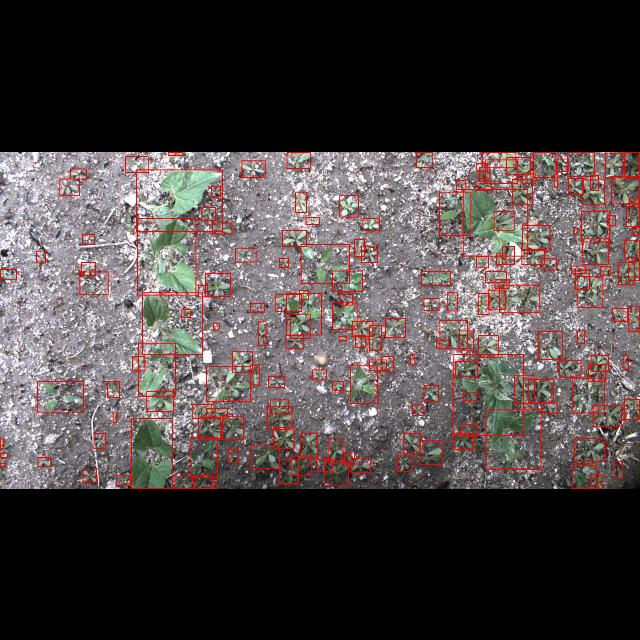crop: (452, 354, 524, 436), (136, 169, 222, 231), (462, 188, 528, 256), (138, 218, 196, 294), (143, 292, 203, 354), (486, 409, 540, 469), (132, 418, 172, 488), (138, 342, 176, 396), (482, 152, 516, 166)
weed: (301, 243, 349, 283), (286, 293, 322, 335), (207, 366, 251, 400), (37, 381, 83, 411), (440, 191, 470, 235), (499, 284, 539, 312), (572, 378, 604, 412), (350, 365, 378, 403), (191, 437, 217, 477), (581, 210, 609, 242), (484, 159, 518, 183), (440, 320, 468, 348), (611, 175, 639, 202), (332, 302, 358, 330), (522, 224, 550, 250), (575, 438, 605, 462), (578, 276, 602, 306), (582, 238, 608, 264), (251, 445, 279, 469), (538, 331, 562, 359), (567, 151, 595, 175), (528, 379, 554, 403), (80, 271, 108, 293), (594, 404, 622, 426), (333, 270, 363, 290), (206, 272, 230, 296), (324, 460, 348, 484), (532, 152, 556, 176), (582, 178, 604, 204), (146, 391, 174, 411), (515, 375, 535, 403), (268, 406, 292, 429), (222, 415, 244, 439), (420, 440, 442, 464), (572, 466, 596, 488), (512, 178, 532, 204), (198, 417, 220, 439), (290, 314, 310, 338), (478, 335, 498, 357), (300, 434, 318, 458), (280, 459, 298, 483), (506, 156, 530, 174), (339, 194, 358, 216), (275, 294, 301, 310), (624, 151, 640, 177), (422, 271, 451, 285), (385, 317, 405, 337), (232, 351, 252, 371), (274, 428, 294, 448), (494, 210, 514, 230), (290, 456, 312, 474), (606, 152, 622, 176), (286, 151, 310, 167), (283, 229, 307, 245), (242, 160, 264, 177), (559, 359, 581, 376), (125, 156, 148, 172), (329, 438, 343, 464), (456, 360, 478, 376), (522, 248, 544, 264), (618, 262, 634, 284), (404, 433, 421, 453), (59, 178, 79, 195), (488, 290, 506, 308), (626, 202, 640, 225), (353, 320, 373, 336), (453, 433, 473, 449), (624, 399, 640, 419), (369, 324, 381, 350), (628, 306, 640, 332), (588, 364, 606, 381), (361, 244, 377, 262), (590, 355, 608, 371), (624, 239, 640, 257), (236, 248, 256, 262), (192, 404, 212, 418), (351, 458, 371, 472), (460, 330, 474, 350), (575, 269, 589, 289), (568, 178, 584, 194), (270, 399, 288, 413), (286, 334, 304, 348), (486, 270, 506, 282), (628, 260, 640, 280), (416, 152, 432, 166), (398, 455, 412, 471), (424, 385, 438, 401), (206, 408, 228, 418), (478, 292, 488, 314), (175, 476, 193, 488), (502, 246, 514, 264), (195, 476, 212, 488), (212, 222, 232, 232), (250, 364, 260, 384), (296, 191, 306, 211), (132, 356, 146, 370), (80, 262, 96, 274), (108, 381, 120, 397), (94, 432, 106, 448), (269, 375, 285, 387), (258, 321, 266, 345), (363, 217, 379, 229), (612, 308, 628, 320), (202, 207, 216, 220), (447, 292, 457, 310), (354, 238, 364, 256), (382, 356, 393, 372), (369, 360, 386, 370), (83, 470, 97, 482), (318, 459, 332, 471), (462, 424, 476, 436), (424, 298, 438, 310), (542, 257, 556, 269), (70, 168, 86, 178), (0, 268, 16, 278), (541, 402, 557, 412), (476, 180, 492, 190), (116, 475, 130, 485), (228, 449, 238, 463), (312, 369, 326, 379), (250, 302, 264, 312), (495, 278, 509, 288), (522, 172, 536, 182), (592, 474, 602, 488), (38, 457, 51, 467), (614, 461, 622, 477), (590, 174, 598, 190), (463, 392, 477, 401), (477, 256, 489, 266), (83, 233, 95, 243), (36, 250, 46, 262), (198, 284, 208, 296), (344, 452, 354, 464), (340, 294, 352, 304), (413, 404, 423, 416), (356, 335, 366, 347), (496, 252, 506, 264), (480, 166, 490, 178), (558, 158, 568, 170), (629, 197, 639, 207), (332, 382, 343, 391), (306, 216, 318, 224), (437, 340, 449, 348), (477, 162, 488, 170), (571, 266, 585, 272), (212, 185, 220, 195), (456, 180, 466, 188), (600, 266, 610, 274), (608, 214, 616, 224), (578, 331, 584, 344), (182, 309, 190, 317), (300, 290, 308, 298), (280, 258, 288, 266), (410, 354, 416, 364), (554, 172, 558, 185), (213, 322, 219, 330), (624, 356, 628, 368), (633, 226, 639, 234), (113, 412, 117, 422), (339, 336, 347, 340), (1, 438, 4, 448), (1, 453, 8, 457), (168, 152, 182, 154), (212, 482, 216, 488), (574, 227, 578, 233), (0, 464, 6, 466)
